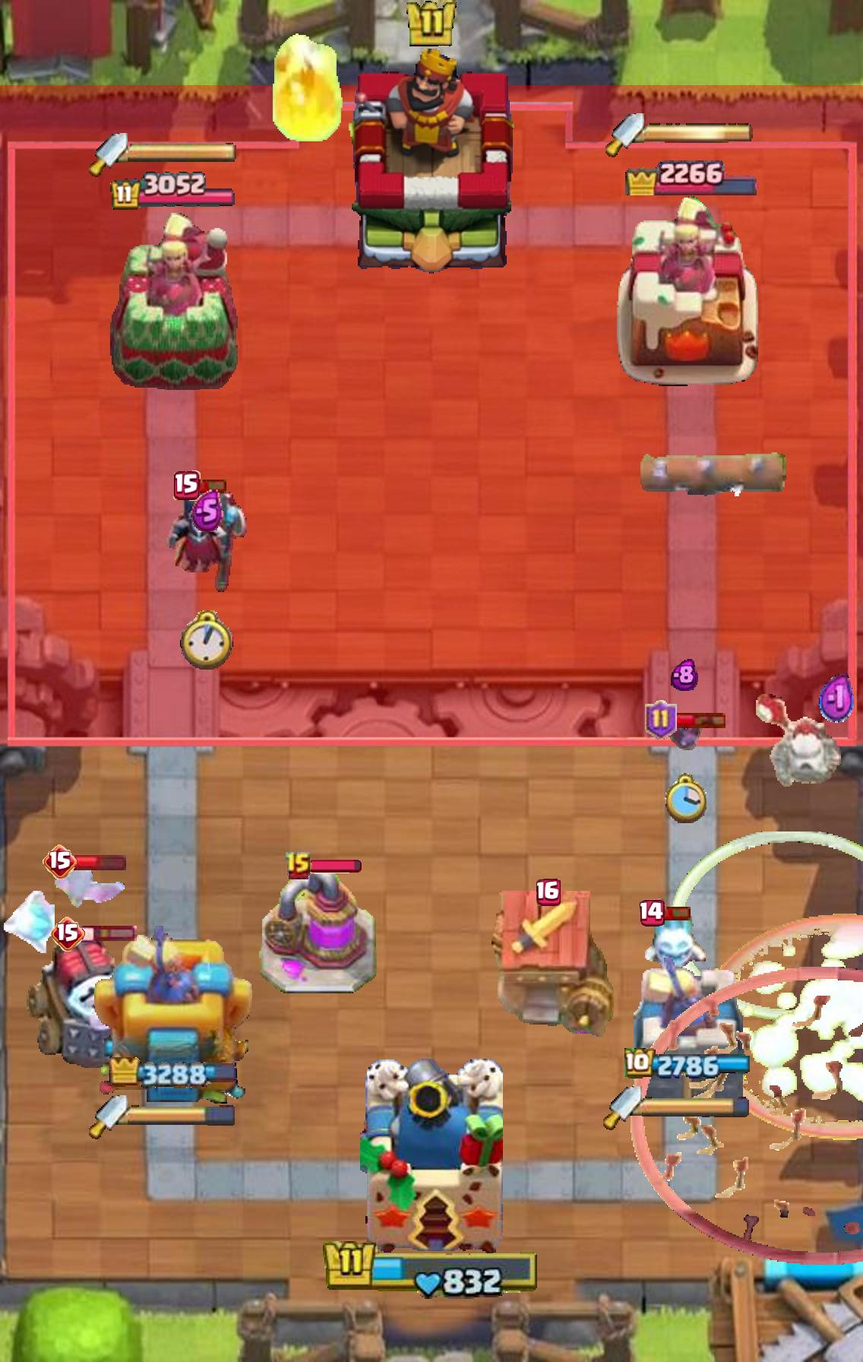bar: (81, 925, 138, 943), (673, 711, 728, 729), (74, 853, 127, 871), (310, 859, 362, 874), (197, 477, 227, 494), (661, 904, 691, 921)
bar-level: (645, 700, 677, 740), (50, 917, 85, 952), (43, 844, 77, 879), (173, 470, 201, 501), (285, 851, 312, 882), (639, 898, 665, 926), (536, 879, 561, 906)
